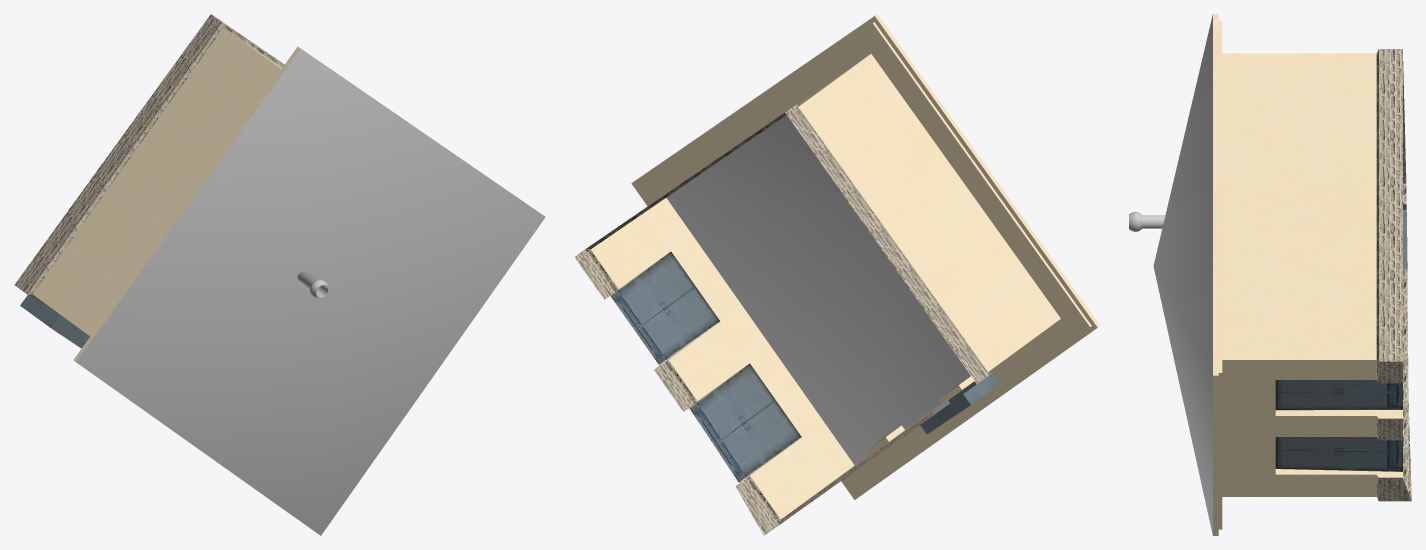
Rendered from Estonia6a_1.obj.
The picture shows the model from 3 angles, left to right: view 1: azimuth 30°, elevation 25°; view 2: azimuth 150°, elevation 25°; view 3: azimuth 270°, elevation 25°; orthographic projection. The views are drawn at different scales.
Parts seen in each view (by area): view 1: polySurface1; view 2: polySurface1; view 3: polySurface1.
Part boxes in pixels (box(x1,y1,x2,y2)): polySurface1: box(14, 14, 545, 535); polySurface1: box(574, 14, 1100, 535); polySurface1: box(1129, 14, 1411, 535).
Size of the model in its own units: 11.14 by 11.17 by 5.59.
